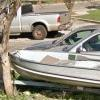Boat: (8, 21, 100, 100)
